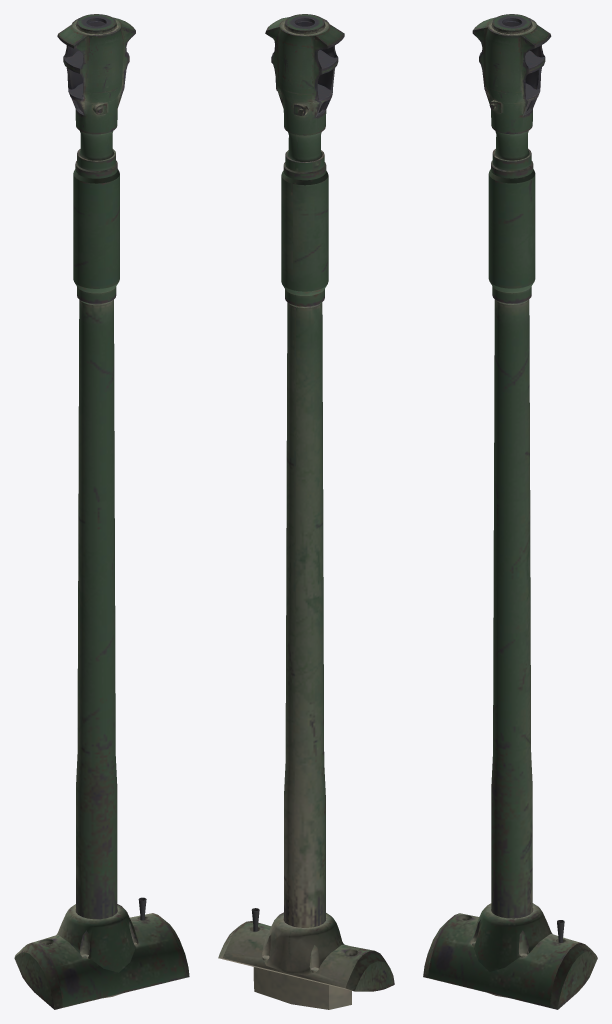
The model's file is Gun_04.glb.
The picture shows the model from 3 angles, left to right: view 1: azimuth 30°, elevation 25°; view 2: azimuth 150°, elevation 25°; view 3: azimuth 330°, elevation 25°; orthographic projection.
Visible parts, largest first — view 1: set_0_group_0; view 2: set_0_group_0; view 3: set_0_group_0.
Boxes of the visible parts, box(x1,y1,x2,y2) form: set_0_group_0: box(14, 14, 189, 1009); set_0_group_0: box(218, 14, 394, 1009); set_0_group_0: box(423, 14, 597, 1009).
Bounding box in the file's own units: 1 × 6.29 × 0.517.
1 material, 1 textured.
